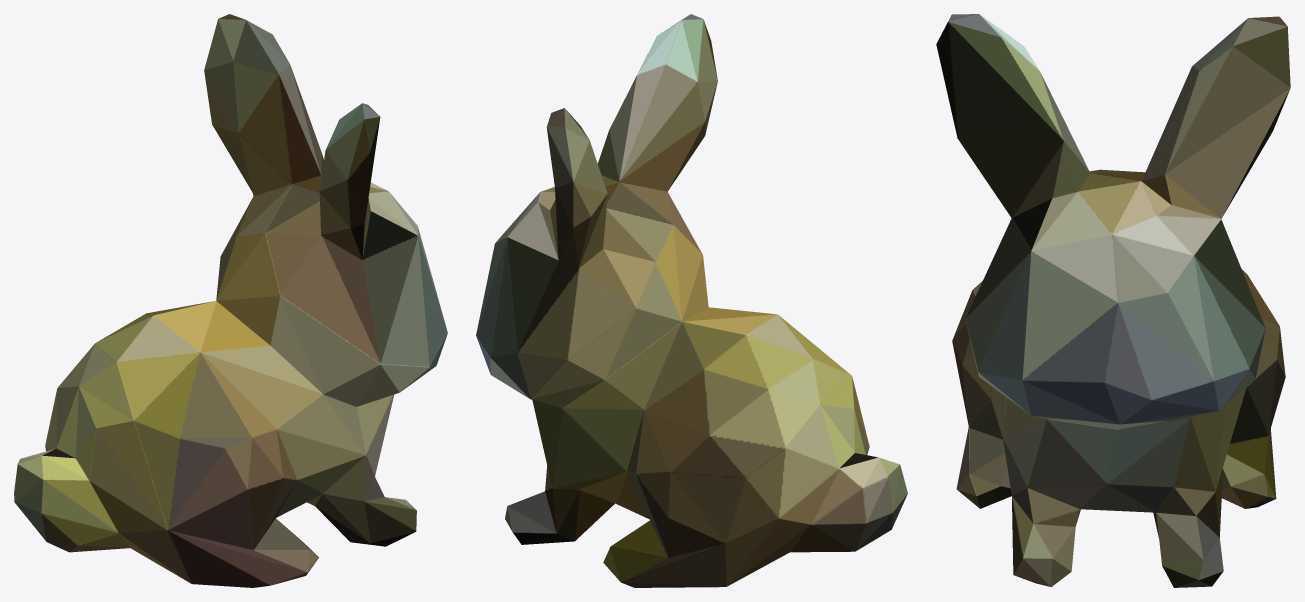
The model's file is rabbit.glb.
3 renders of one model, left to right at view 1: azimuth 30°, elevation 25°; view 2: azimuth 150°, elevation 25°; view 3: azimuth 270°, elevation 25°, orthographic. The views are drawn at different scales.
Bounding box in the file's own units: 1.08 × 1.19 × 0.7059.
Materials: 1 (1 with a texture image).
